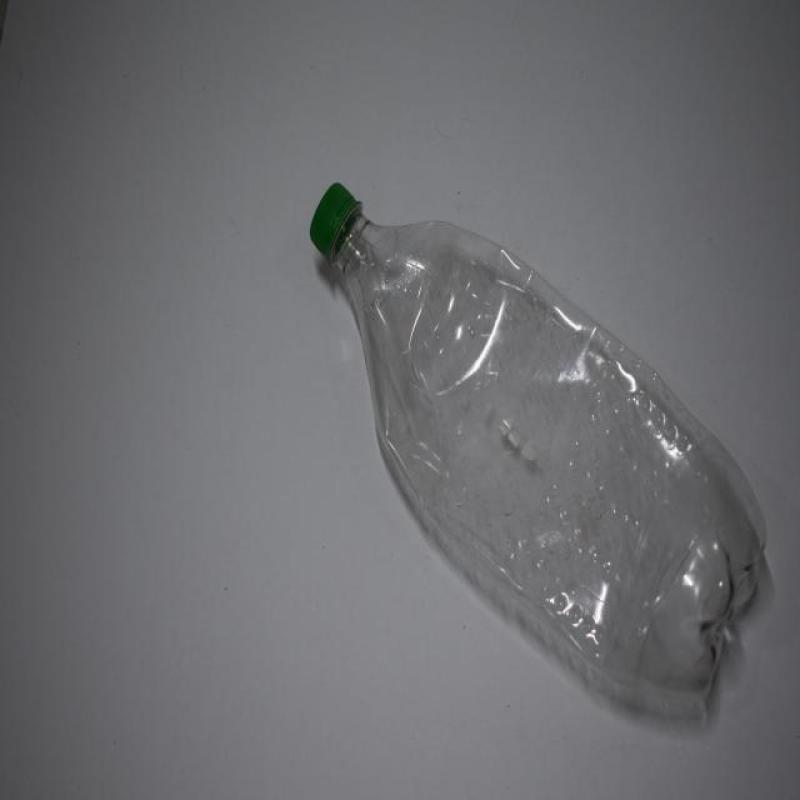botella: (310, 183, 769, 714)
